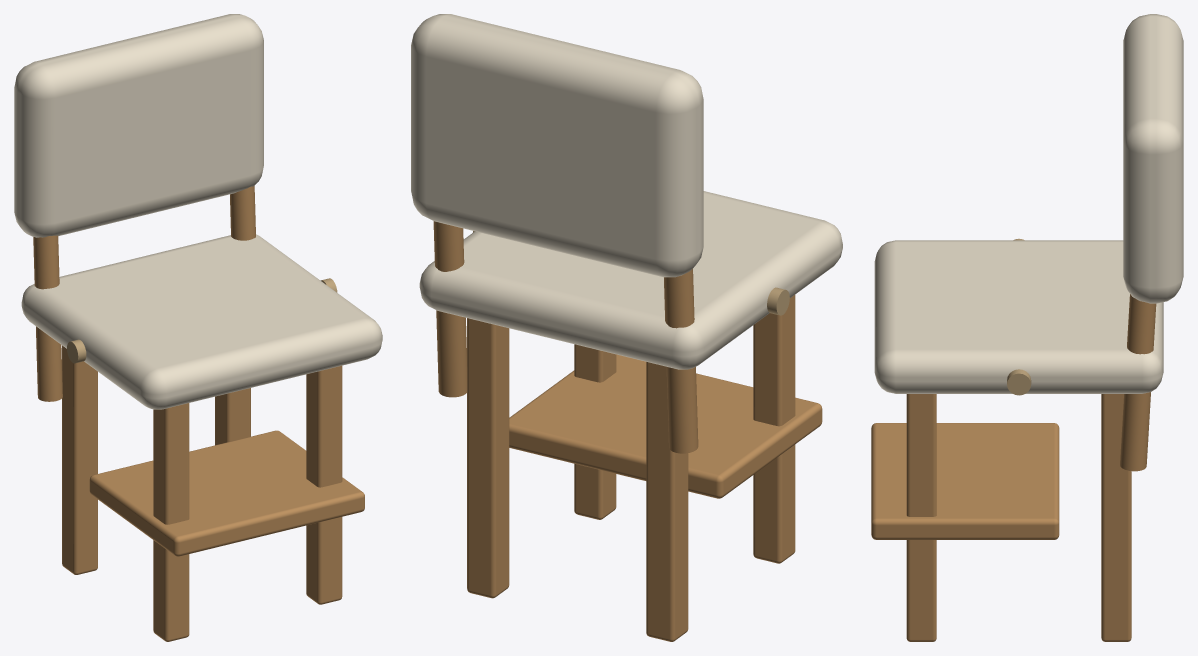
3 views of the same model, side by side, from view 1: azimuth 30°, elevation 25°; view 2: azimuth 150°, elevation 25°; view 3: azimuth 270°, elevation 25° (orthographic). The views are drawn at different scales.
Parts seen in each view (by area): view 1: Curved upholstered back, Padded seat, Tapered leg (×4), Convertible lower step, Back spindle (×2); view 2: Curved upholstered back, Padded seat, Tapered leg (×4), Convertible lower step, Back spindle (×2); view 3: Padded seat, Convertible lower step, Curved upholstered back, Tapered leg (×2), Back spindle, Pivot hinge.
Part boxes in pixels (<box>): Curved upholstered back: <box>14,14,263,237</box>; Padded seat: <box>21,234,382,409</box>; Tapered leg (×4): <box>62,345,342,641</box>; Convertible lower step: <box>89,430,364,556</box>; Back spindle (×2): <box>33,186,255,401</box>; Curved upholstered back: <box>411,14,703,277</box>; Padded seat: <box>419,191,842,369</box>; Tapered leg (×4): <box>467,295,795,641</box>; Convertible lower step: <box>509,354,822,498</box>; Back spindle (×2): <box>433,221,698,453</box>; Padded seat: <box>874,240,1163,393</box>; Convertible lower step: <box>871,423,1059,539</box>; Curved upholstered back: <box>1123,14,1183,303</box>; Tapered leg (×2): <box>906,394,1131,641</box>; Back spindle: <box>1120,294,1156,471</box>; Pivot hinge: <box>1007,369,1031,395</box>.
Size of the model in its own units: 0.475 by 0.87 by 0.465.
